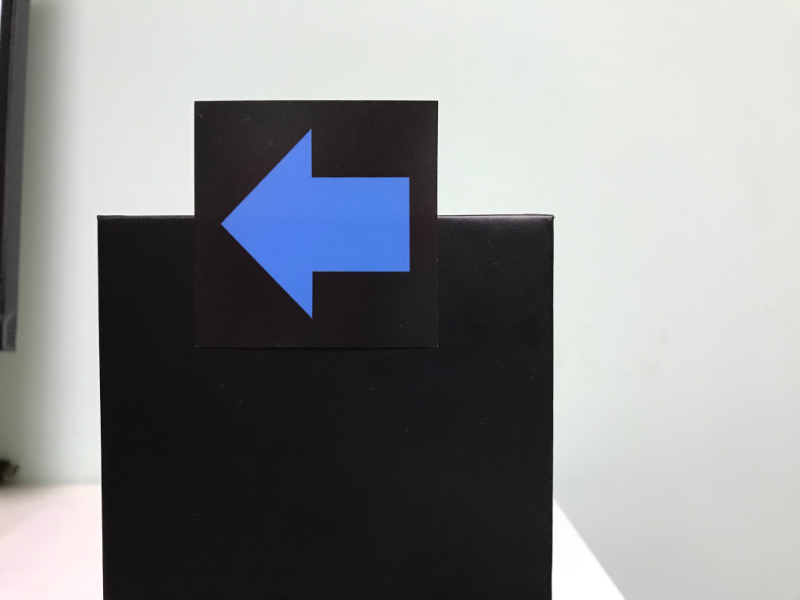LA-4: (197, 105, 436, 345)
